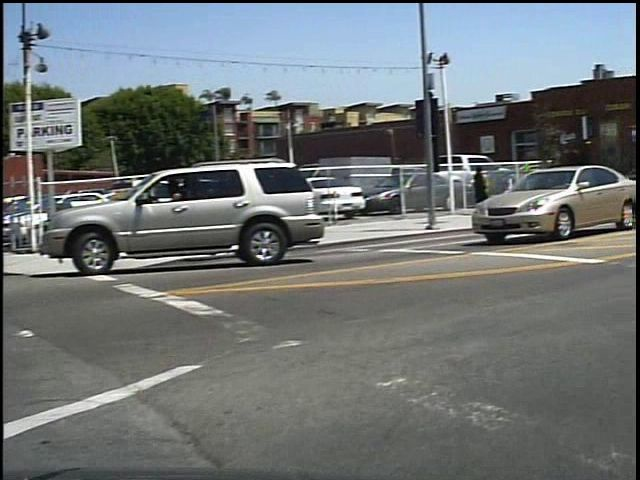person: (478, 162, 503, 220)
